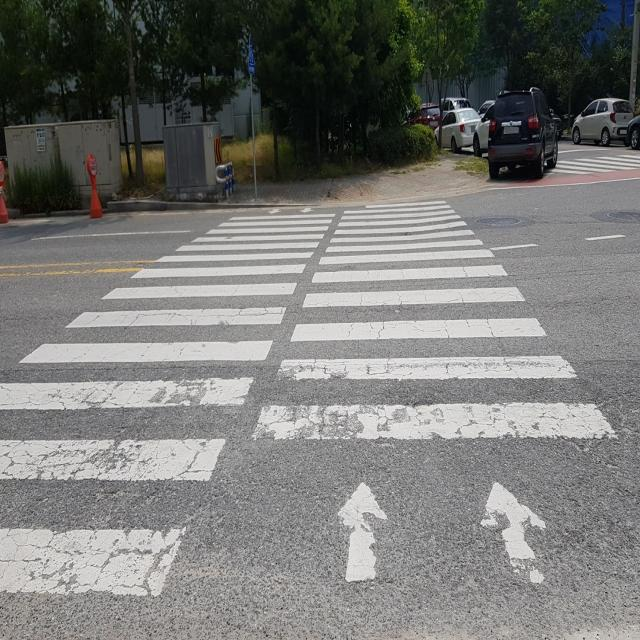횡단보도: (0, 198, 621, 600), (551, 153, 640, 174)
